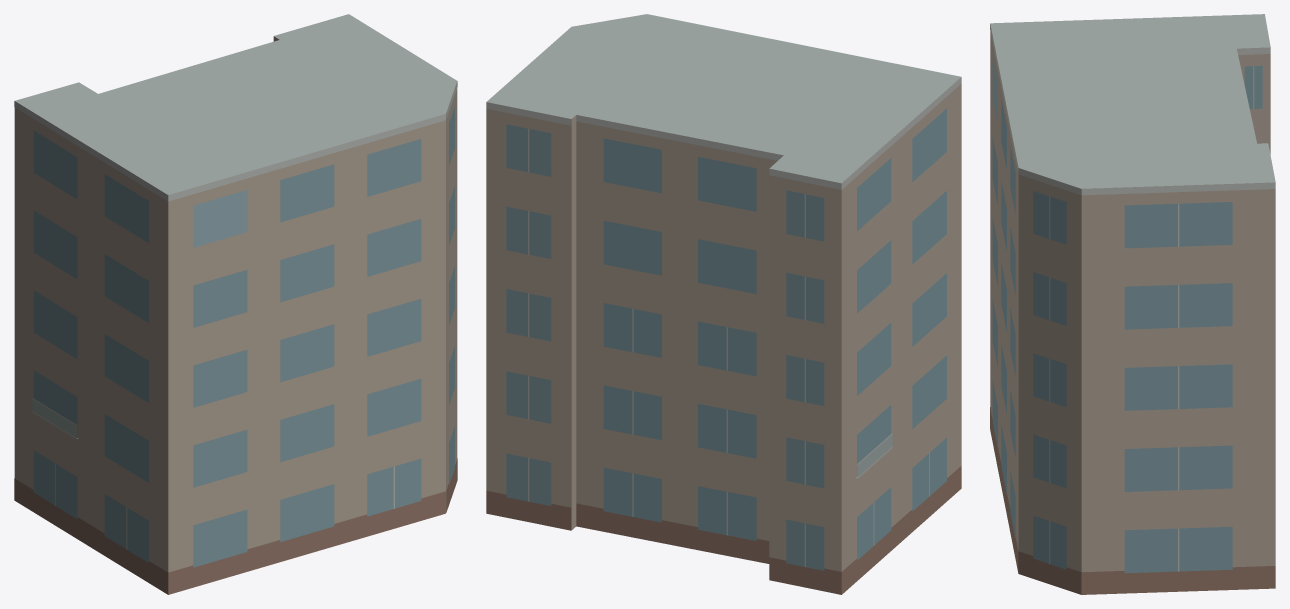
File: survey-upis-33007860.glb
3 views of the same model, side by side, from view 1: azimuth 30°, elevation 25°; view 2: azimuth 150°, elevation 25°; view 3: azimuth 270°, elevation 25° (orthographic). The views are drawn at different scales.
Parts seen in each view (by area): view 1: survey-upis-33007860.tmp; view 2: survey-upis-33007860.tmp; view 3: survey-upis-33007860.tmp.
Part boxes in pixels (left/top/right/bottom): survey-upis-33007860.tmp: left=14, top=14, right=457, bottom=594; survey-upis-33007860.tmp: left=486, top=14, right=961, bottom=594; survey-upis-33007860.tmp: left=990, top=14, right=1275, bottom=594.
Bounding box in the file's own units: 14.09 × 15.25 × 9.73.
